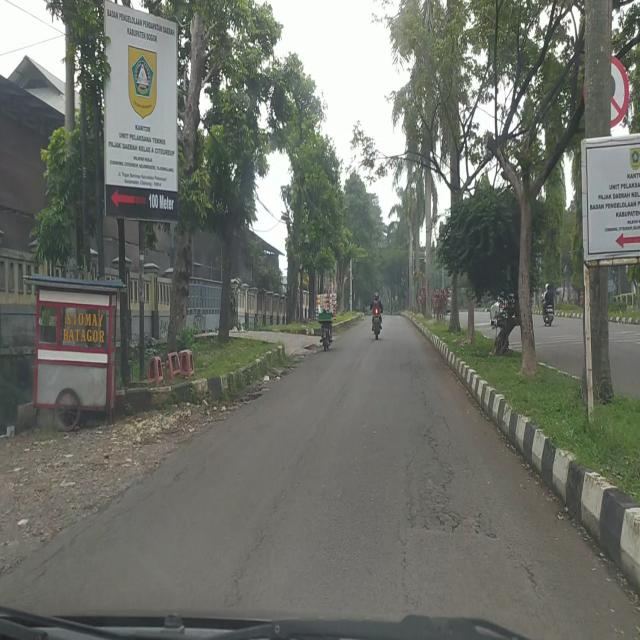Drain Hole: (409, 408, 496, 538)
